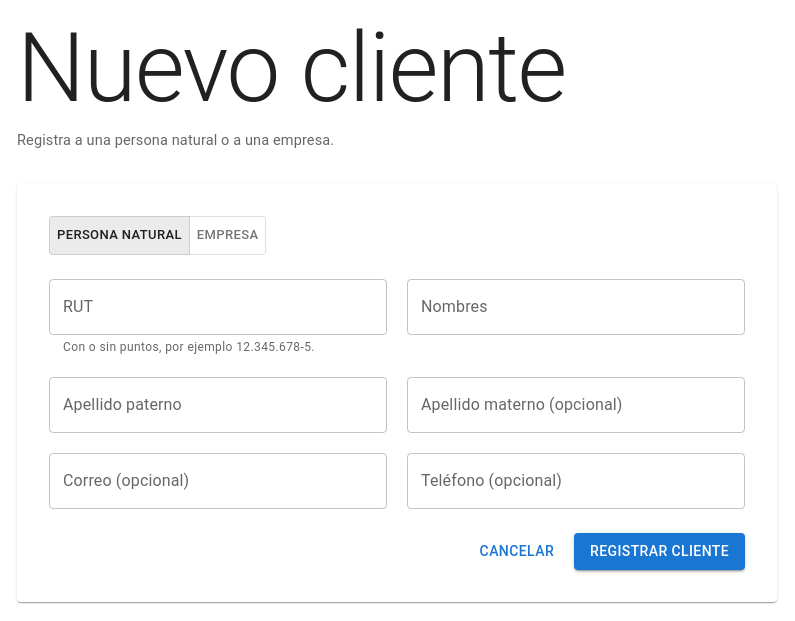
Test: FormularioCliente › shows a duplicate RUT reported by the backend on the RUT field
The image size is (795, 621).
In the field labelled "RUT": (218, 306) [49,278,387,334], type "12345678-5"
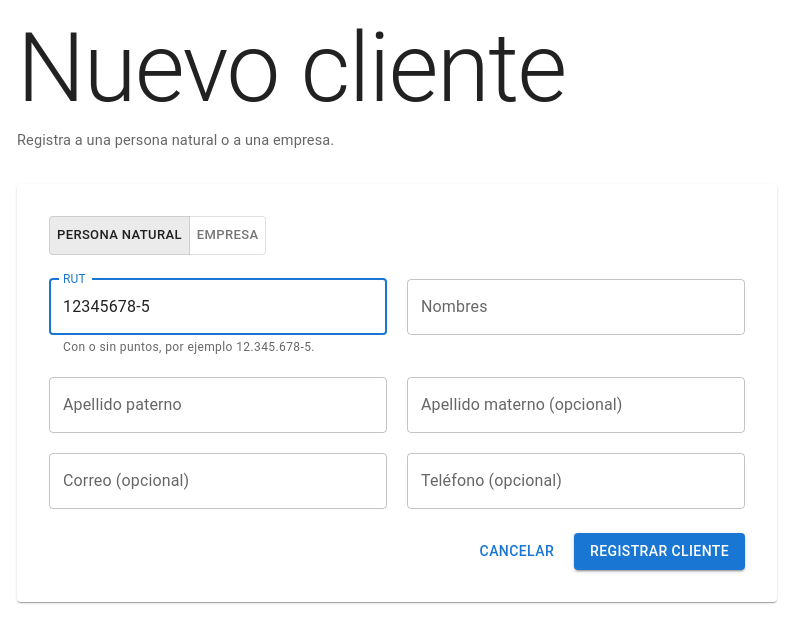
In the field labelled "Nombres": (576, 306) [407,278,745,334], type "Camila"
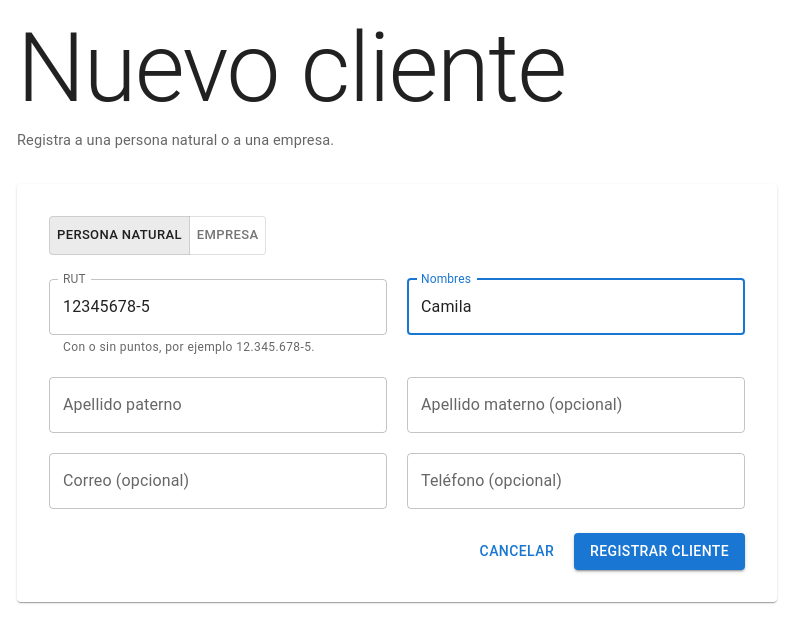
In the field labelled "Apellido paterno": (218, 405) [49,377,387,433], type "Rojas"
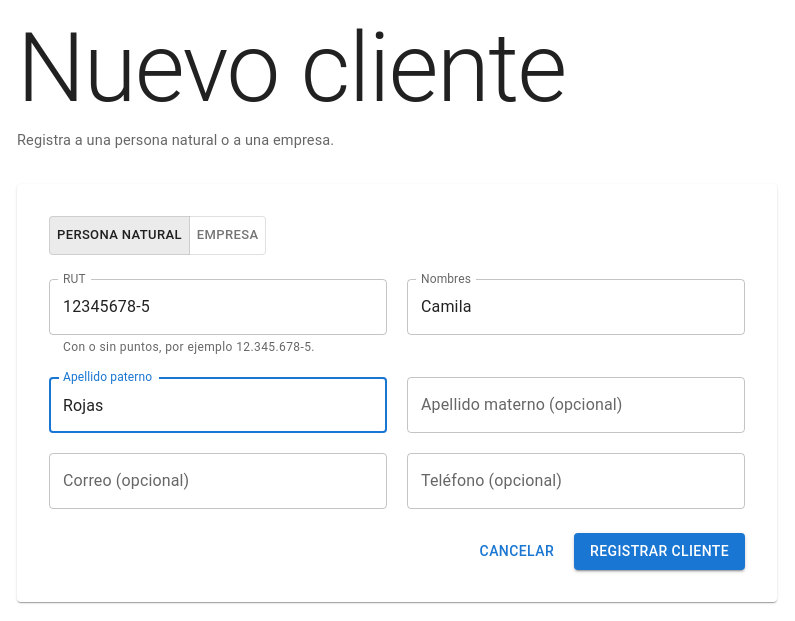
Click the button "Registrar cliente": click(660, 552) [574,533,745,570]
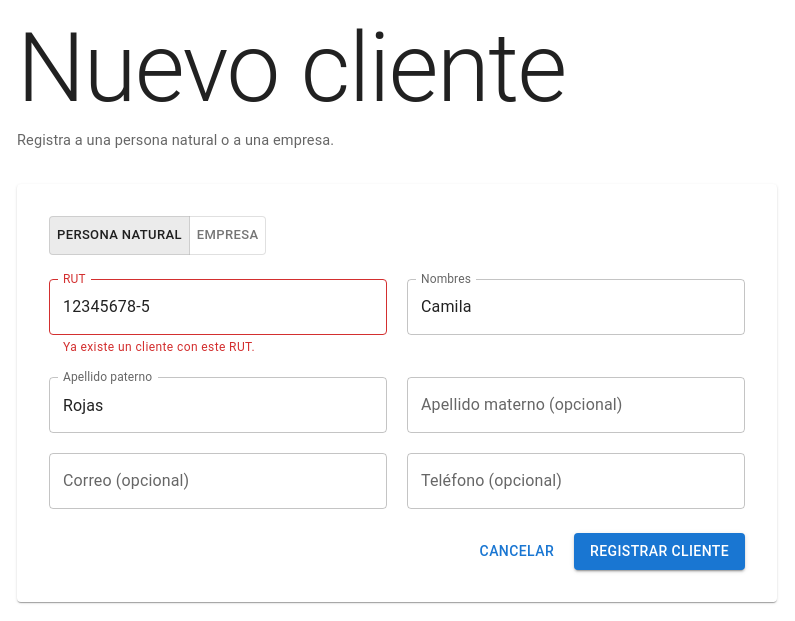
Expected: the text "Ya existe un cliente con este RUT." is shown, [63,340,255,354]
